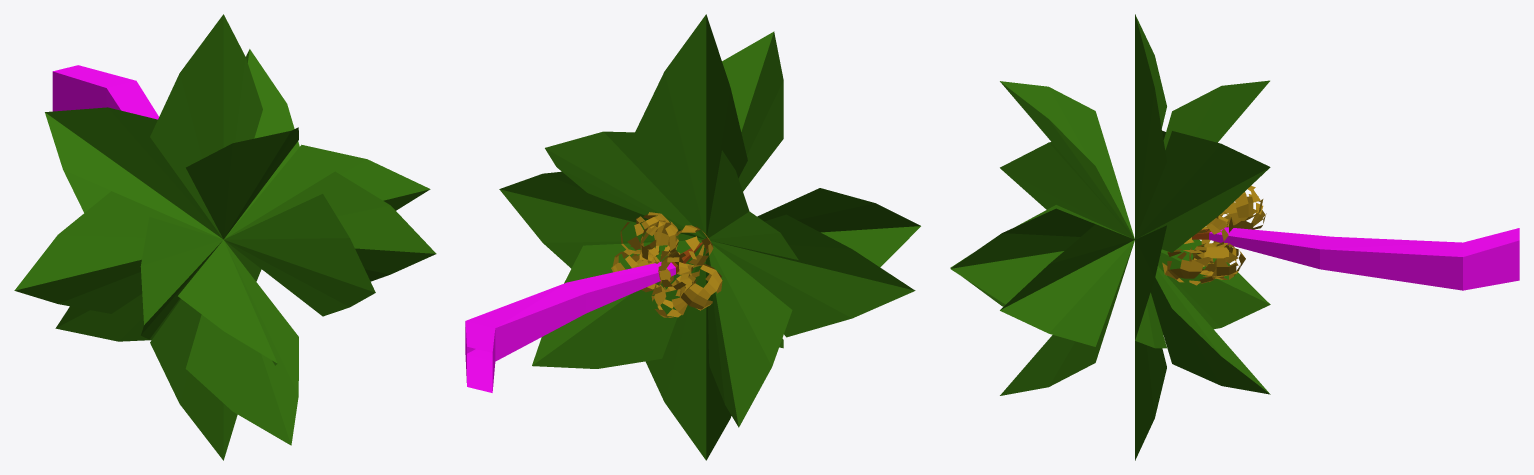
The model's file is 4_mature_partial.obj.
The picture shows the model from 3 angles, left to right: view 1: azimuth 30°, elevation 25°; view 2: azimuth 150°, elevation 25°; view 3: azimuth 270°, elevation 25°; orthographic projection.
Parts seen in each view (by area): view 1: papaya_4_partial; view 2: papaya_4_partial; view 3: papaya_4_partial.
Boxes of the visible parts, <box> form: papaya_4_partial: <box>14,14,436,460</box>; papaya_4_partial: <box>465,14,920,460</box>; papaya_4_partial: <box>950,14,1519,460</box>.
Size of the model in its own units: 1.95 by 2 by 2.31.
